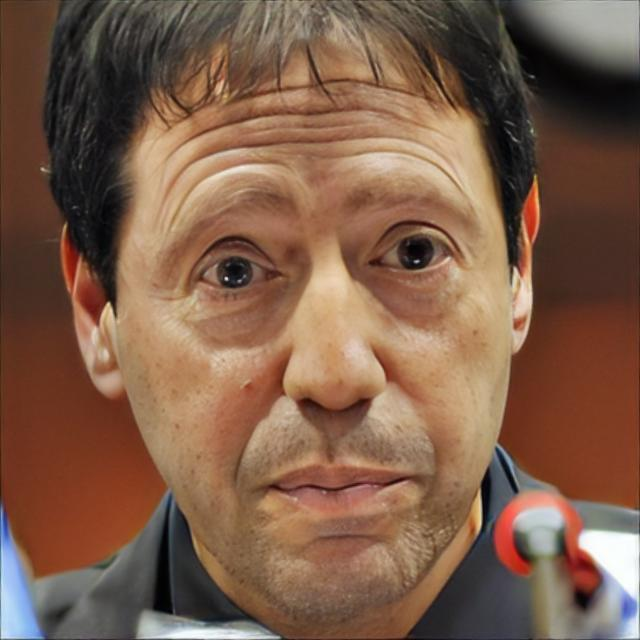surprise: (114, 12, 510, 622)
